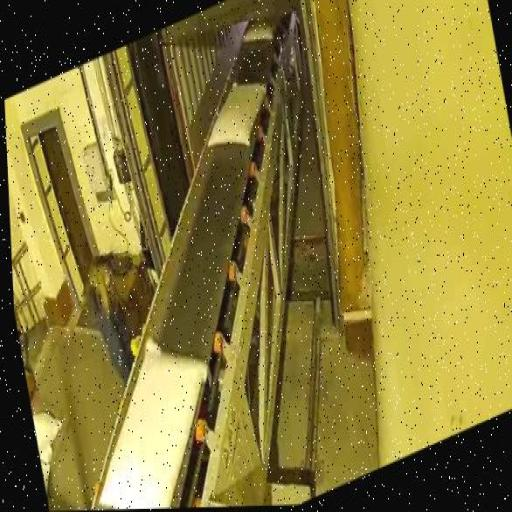c-belt-sack-count: (99, 337, 207, 507), (209, 86, 263, 147), (244, 20, 272, 41)
